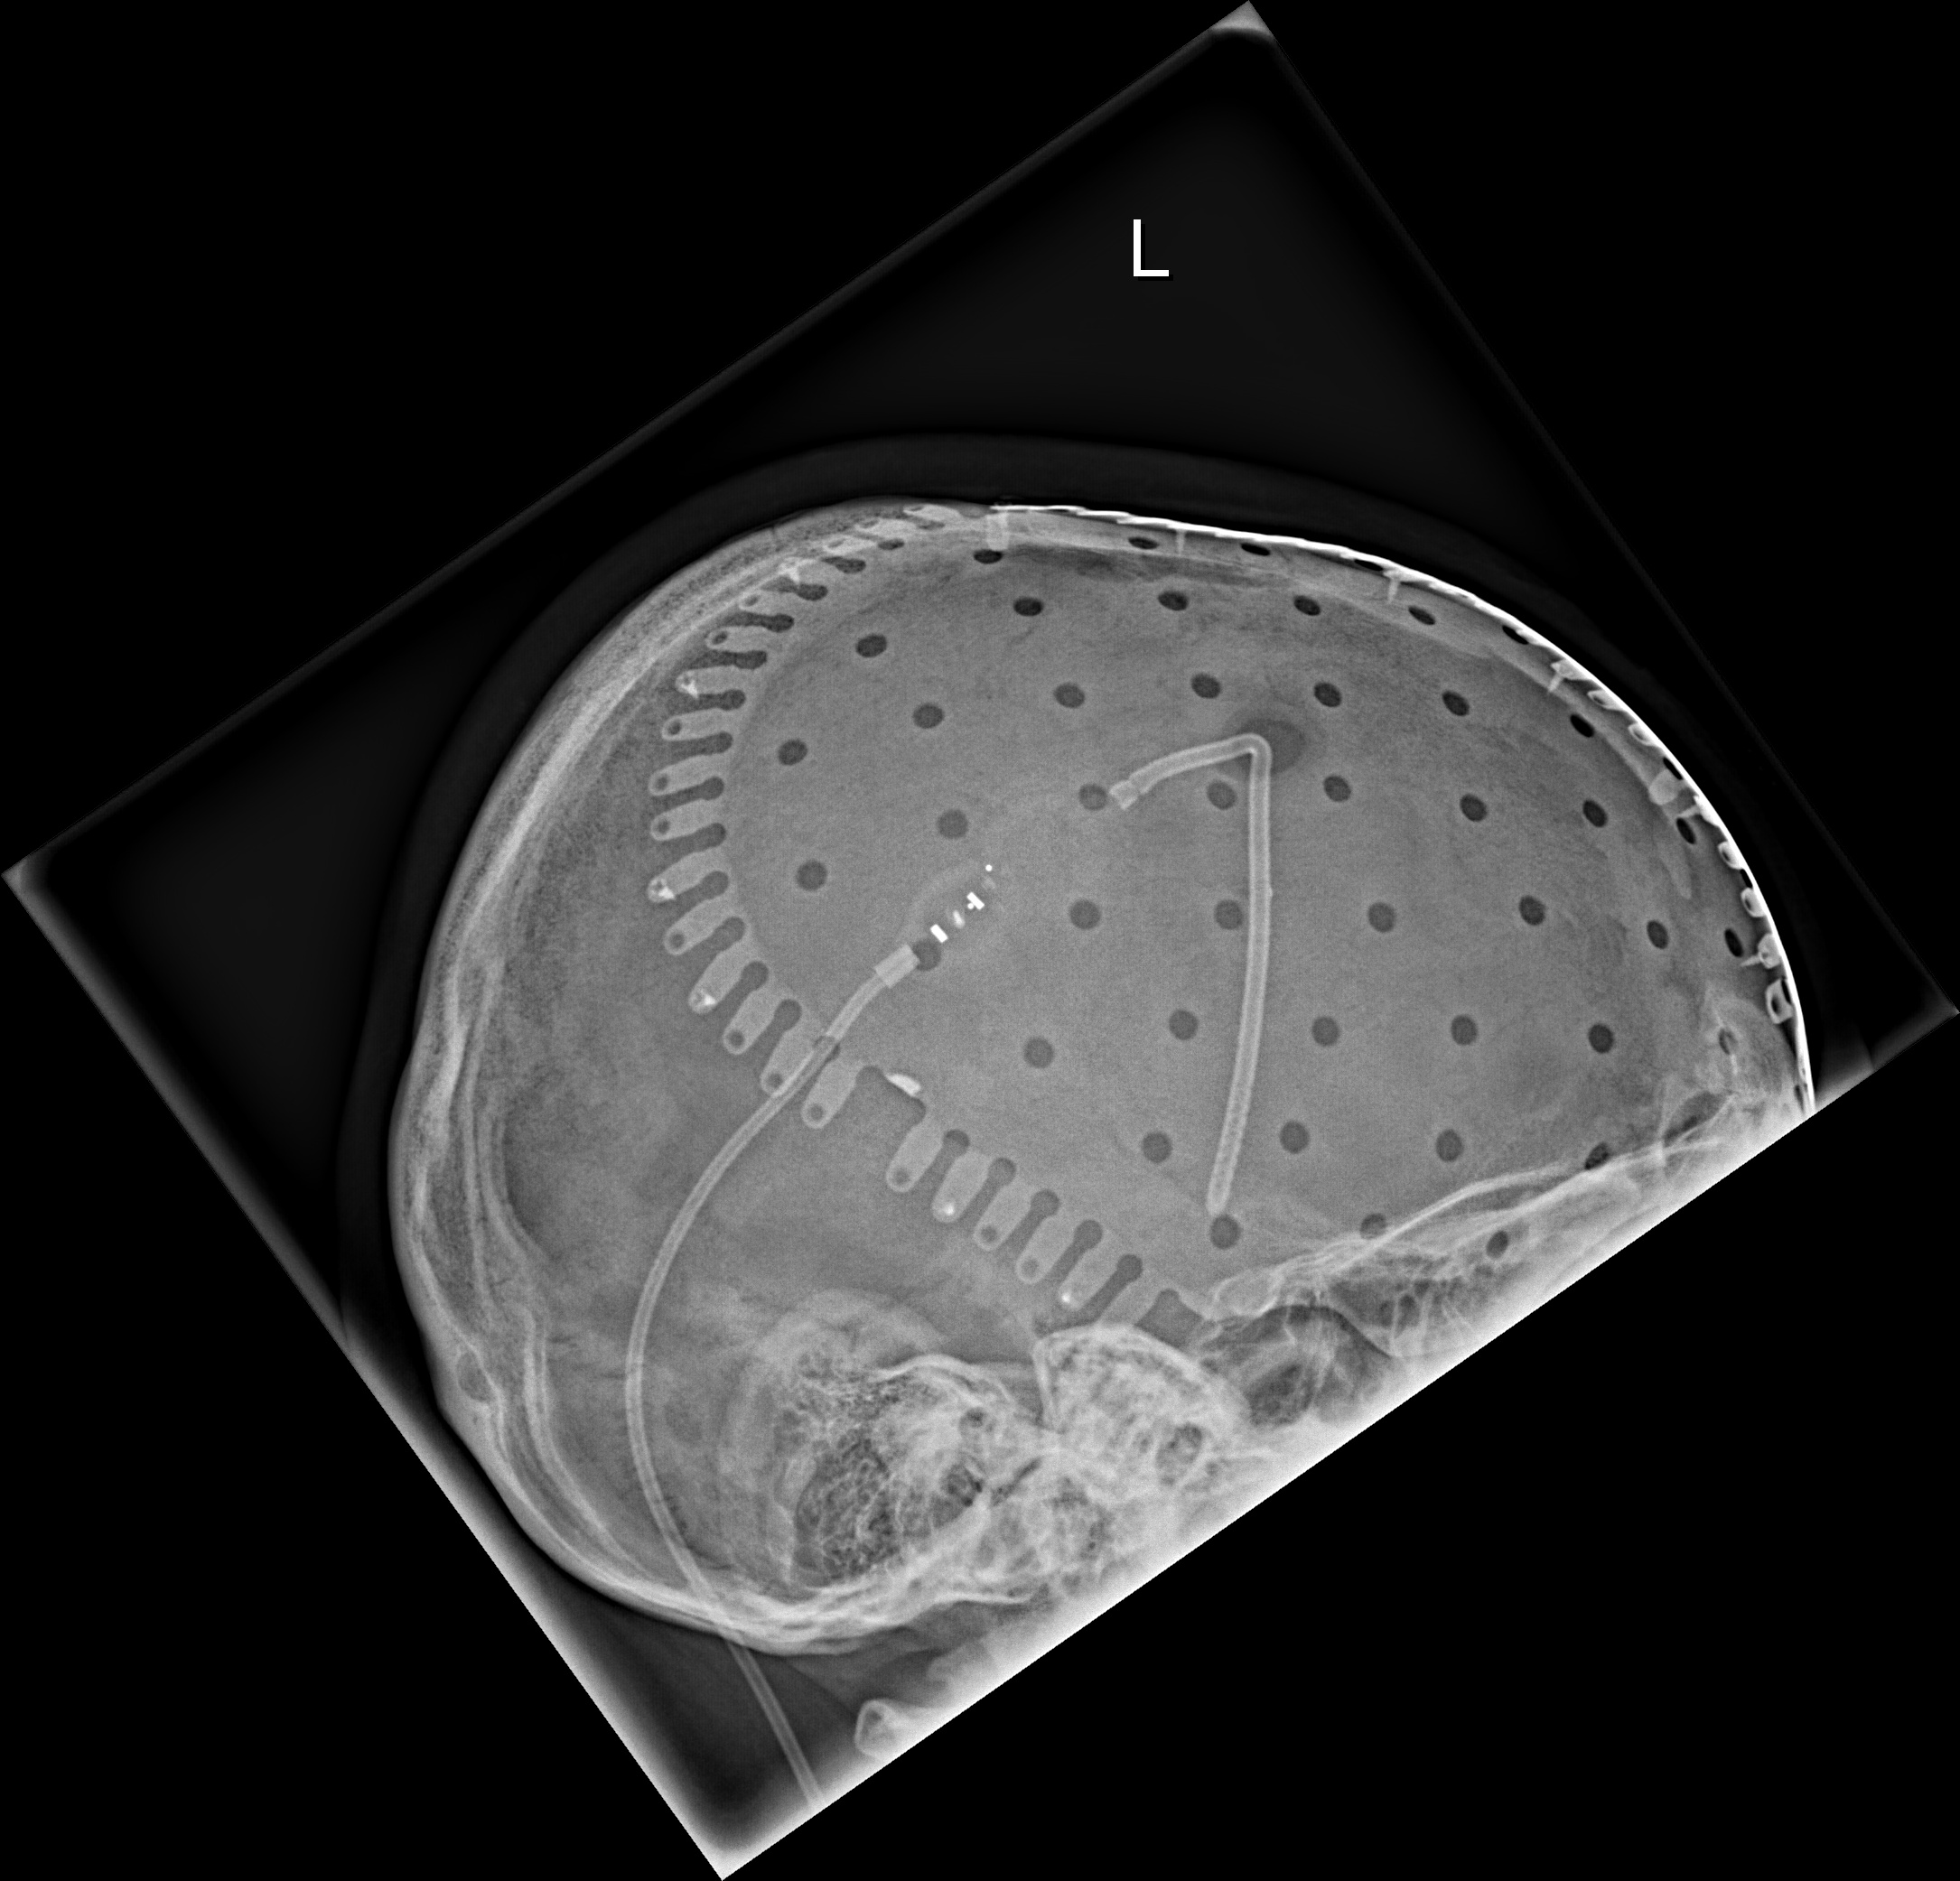Codman Certas: (906, 854, 1006, 968)
